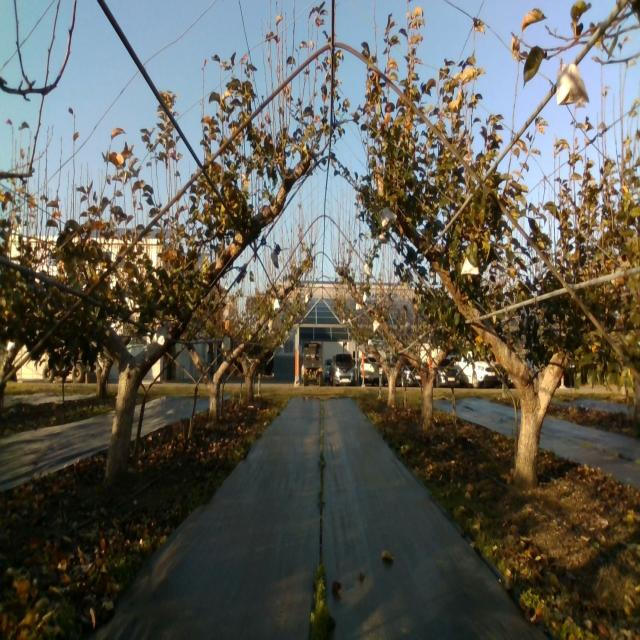pearbags: (151, 326, 168, 348), (381, 206, 397, 228)
